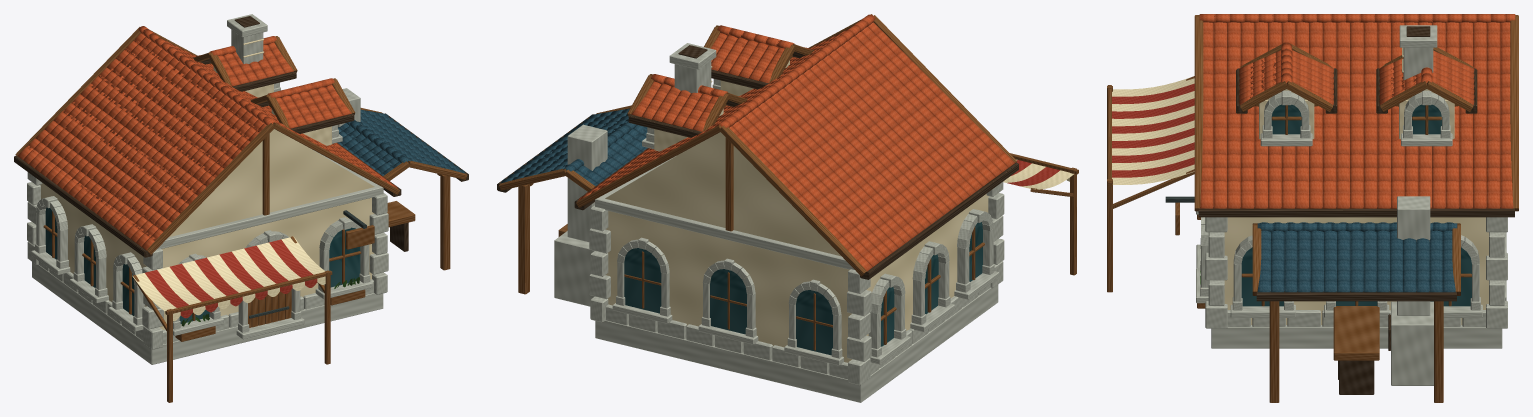
The model's file is smith_workshop.glb.
The picture shows the model from 3 angles, left to right: view 1: azimuth 30°, elevation 25°; view 2: azimuth 150°, elevation 25°; view 3: azimuth 270°, elevation 25°; orthographic projection. The views are drawn at different scales.
Parts seen in each view (by area): view 1: smith_workshop_Roof.001, smith_workshop_Structure.001, smith_workshop_Joinery.001, smith_workshop_Detail.001, smith_workshop_Cloth.001, smith_workshop_Glazing.001; view 2: smith_workshop_Structure.001, smith_workshop_Roof.001, smith_workshop_Joinery.001, smith_workshop_Detail.001, smith_workshop_Glazing.001, smith_workshop_Cloth.001; view 3: smith_workshop_Roof.001, smith_workshop_Structure.001, smith_workshop_Joinery.001, smith_workshop_Cloth.001, smith_workshop_Detail.001, smith_workshop_Glazing.001.
Boxes of the visible parts, left/top/right/bottom form: smith_workshop_Roof.001: left=17, top=26, right=465, bottom=250; smith_workshop_Structure.001: left=27, top=14, right=388, bottom=364; smith_workshop_Joinery.001: left=14, top=27, right=468, bottom=402; smith_workshop_Detail.001: left=31, top=82, right=373, bottom=339; smith_workshop_Cloth.001: left=132, top=236, right=325, bottom=321; smith_workshop_Glazing.001: left=45, top=207, right=360, bottom=323; smith_workshop_Structure.001: left=554, top=43, right=1004, bottom=402; smith_workshop_Roof.001: left=501, top=14, right=1014, bottom=271; smith_workshop_Joinery.001: left=497, top=14, right=1078, bottom=350; smith_workshop_Detail.001: left=612, top=79, right=999, bottom=365; smith_workshop_Glazing.001: left=624, top=222, right=982, bottom=355; smith_workshop_Cloth.001: left=1003, top=159, right=1073, bottom=189; smith_workshop_Roof.001: left=1199, top=14, right=1515, bottom=292; smith_workshop_Structure.001: left=1205, top=25, right=1507, bottom=385; smith_workshop_Joinery.001: left=1107, top=15, right=1518, bottom=402; smith_workshop_Cloth.001: left=1112, top=77, right=1194, bottom=184; smith_workshop_Detail.001: left=1196, top=90, right=1506, bottom=317; smith_workshop_Glazing.001: left=1241, top=104, right=1471, bottom=306.
Size of the model in its own units: 10.51 by 6.57 by 8.52.
4 materials, 4 textured.
